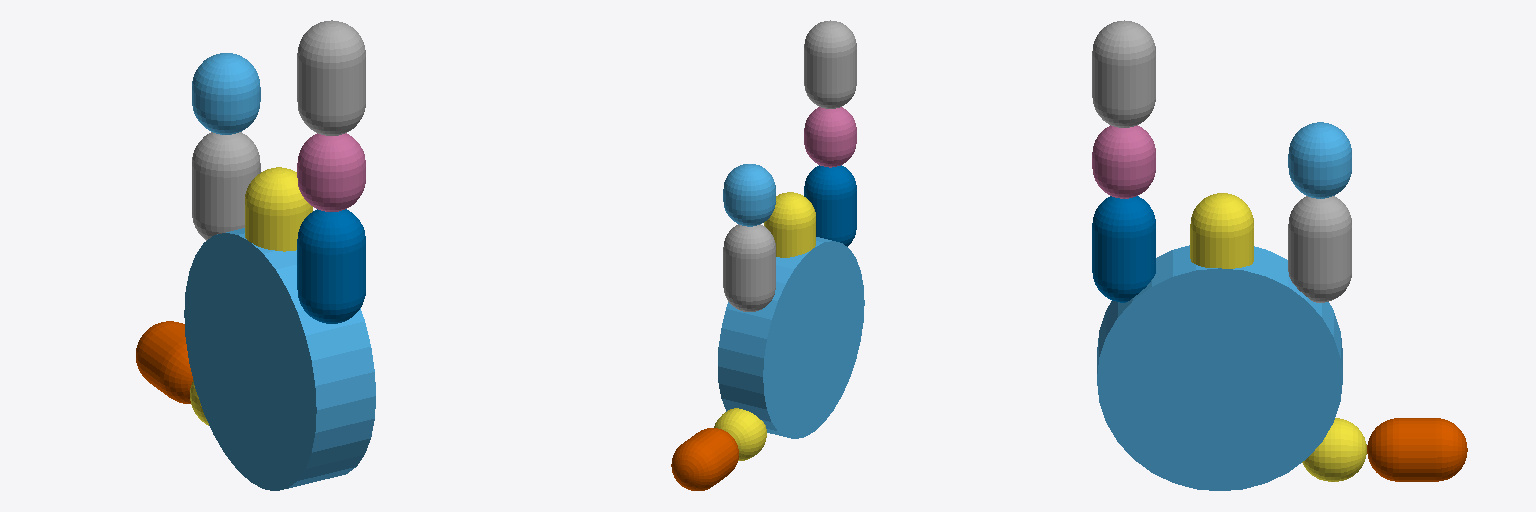
robot.urdf — DexterousHand:
<?xml version="1.0"?>
<robot name="DexterousHand">


    <link name="world"/>
    <joint name="world_to_palm" type="fixed">
        <parent link="world"/>
        <child link="palm"/>
        <origin xyz="0 0 0" rpy="0 0 0"/>
    </joint>
    <link name="palm">
        <inertial>
            <origin xyz="0 0 0.057" rpy="0 0 0"/>
            <mass value="0.30212892864"/>
            <inertia ixx="0.00049080844457568" ixy="0.0" ixz="0.0" iyy="0.00026746366246427523" iyz="0.0" izz="0.00026746366246427523"/>
        </inertial>
        <visual>
            <origin xyz="0 0 0.057" rpy="1.5708 0 1.5708"/>
            <geometry>
                <cylinder radius="0.057" length="0.0296"/>
            </geometry>
            <material name="default"/>
        </visual>
        <collision>
            <origin xyz="0 0 0.057" rpy="1.5708 0 1.5708"/>
            <geometry>
                <cylinder radius="0.057" length="0.0296"/>
            </geometry>
        </collision>
    </link>

    
    <joint name="thumb_joint1" type="revolute">
        <parent link="palm"/>
        <child link="thumb_base"/>
        <origin xyz="0.0029 0.0368 0.0157" rpy="-1.5708 -1.5708 0.0"/>
        <axis xyz="-1 0 0"/>
        <limit lower="-0.349" upper="2.094" effort="1.0" velocity="1.0"/>
    </joint>

    <link name="thumb_base"></link>

    <joint name="thumb_joint2" type="revolute">
        <parent link="thumb_base"/>
        <child link="thumb_proximal"/>
        <origin xyz="0.0 0.0 0.0" rpy="0.0 0.0 0.0"/>
        <axis xyz="0 0 1"/>
        <limit lower="-0.47" upper="2.443" effort="1.0" velocity="1.0"/>
    </joint>

    <link name="thumb_proximal">
        <inertial>
            <origin xyz="0 0 0.01565" rpy="0 0 0"/>
            <mass value="0.021538658803200002"/>
            <inertia ixx="2.9378910096388167e-06" ixy="0.0" ixz="0.0" 
            iyy="2.9378910096388167e-06" iyz="0.0" izz="2.358913912126464e-06"/>
        </inertial>
        <visual>
            <origin xyz="0 0 0.01565" rpy="0 0 0"/>
            <geometry>
                <cylinder radius="0.0148" length="0.0017000000000000001"/>
            </geometry>
            <material name="default"/>
        </visual>
        <visual>
            <origin xyz="0 0 0.0148" rpy="0 0 0"/>
            <geometry>
                <sphere radius="0.0148"/>
            </geometry>
            <material name="default"/>
        </visual>
        <visual>
            <origin xyz="0 0 0.0165" rpy="0 0 0"/>
            <geometry>
                <sphere radius="0.0148"/>
            </geometry>
            <material name="default"/>
        </visual>
        <collision>
            <origin xyz="0 0 0.01565" rpy="0 0 0"/>
            <geometry>
                <cylinder radius="0.0148" length="0.0017000000000000001"/>
            </geometry>
        </collision>
        <collision>
            <origin xyz="0 0 0.0148" rpy="0 0 0"/>
            <geometry>
                <sphere radius="0.0148"/>
            </geometry>
        </collision>
        <collision>
            <origin xyz="0 0 0.0165" rpy="0 0 0"/>
            <geometry>
                <sphere radius="0.0148"/>
            </geometry>
        </collision>
    </link>

    <joint name="thumb_joint3" type="revolute">
        <parent link="thumb_proximal"/>
        <child link="thumb_knuckle"/>
        <origin xyz="0.0 0.0 0.0313" rpy="0.0 0.0 0.0"/>
        <axis xyz="1 0 0"/>
        <limit lower="0.0" upper="0.0" effort="1.0" velocity="1.0"/>
    </joint>

    <link name="thumb_knuckle"></link>

    <joint name="thumb_joint4" type="revolute">
        <parent link="thumb_knuckle"/>
        <child link="thumb_middle"/>
        <origin xyz="0 0 0" rpy="0 0 0"/> 
        <axis xyz="0 1 0"/>
        <limit lower="-1.2" upper="1.9" effort="1.0" velocity="1.0"/>
    </joint>

    <link name="thumb_middle">
        <inertial>
            <origin xyz="0 0 0.0233" rpy="0 0 0"/>
            <mass value="0.032067140582400004"/>
            <inertia ixx="7.5589732685519385e-06" ixy="0.0" ixz="0.0" 
            iyy="7.5589732685519385e-06" iyz="0.0" izz="3.5119932365844485e-06"/>
        </inertial>
        <visual>
            <origin xyz="0 0 0.0233" rpy="0 0 0"/>
            <geometry>
                <cylinder radius="0.0148" length="0.017"/>
            </geometry>
            <material name="default"/>
        </visual>
        <visual>
            <origin xyz="0 0 0.0148" rpy="0 0 0"/>
            <geometry>
                <sphere radius="0.0148"/>
            </geometry>
            <material name="default"/>
        </visual>
        <visual>
            <origin xyz="0 0 0.0318" rpy="0 0 0"/>
            <geometry>
                <sphere radius="0.0148"/>
            </geometry>
            <material name="default"/>
        </visual>
        <collision>
            <origin xyz="0 0 0.0233" rpy="0 0 0"/>
            <geometry>
                <cylinder radius="0.0148" length="0.017"/>
            </geometry>
        </collision>
        <collision>
            <origin xyz="0 0 0.0148" rpy="0 0 0"/>
            <geometry>
                <sphere radius="0.0148"/>
            </geometry>
        </collision>
        <collision>
            <origin xyz="0 0 0.0318" rpy="0 0 0"/>
            <geometry>
                <sphere radius="0.0148"/>
            </geometry>
        </collision>
    </link>

    <joint name="thumb_joint5" type="revolute">
        <parent link="thumb_middle"/>
        <child link="thumb_distal"/>
        <origin xyz="0 0 0.0466" rpy="0 0 0"/> 
        <axis xyz="0 1 0"/>
        <limit lower="0.0" upper="0.0" effort="1.0" velocity="1.0"/>
    </joint>

    <link name="thumb_distal">
    </link>

    
    <joint name="index_joint1" type="revolute">
        <parent link="palm"/>
        <child link="index_proximal"/>
        <origin xyz="0.0 0.0465 0.091" rpy="0.0 0.0 0.0"/>
        <axis xyz="0 1 0"/>
        <limit lower="-0.314" upper="2.23" effort="1.0" velocity="1.0"/>
    </joint>

    <link name="index_proximal">
        <inertial>
            <origin xyz="0 0 0.02655" rpy="0 0 0"/>
            <mass value="0.036540024998400006"/>
            <inertia ixx="1.058665009272394e-05" ixy="0.0" ixz="0.0" 
            iyy="1.058665009272394e-05" iyz="0.0" izz="4.001863537824769e-06"/>
        </inertial>
        <visual>
            <origin xyz="0 0 0.02655" rpy="0 0 0"/>
            <geometry>
                <cylinder radius="0.0148" length="0.0235"/>
            </geometry>
            <material name="default"/>
        </visual>
        <visual>
            <origin xyz="0 0 0.0148" rpy="0 0 0"/>
            <geometry>
                <sphere radius="0.0148"/>
            </geometry>
            <material name="default"/>
        </visual>
        <visual>
            <origin xyz="0 0 0.0383" rpy="0 0 0"/>
            <geometry>
                <sphere radius="0.0148"/>
            </geometry>
            <material name="default"/>
        </visual>
        <collision>
            <origin xyz="0 0 0.02655" rpy="0 0 0"/>
            <geometry>
                <cylinder radius="0.0148" length="0.0235"/>
            </geometry>
        </collision>
        <collision>
            <origin xyz="0 0 0.0148" rpy="0 0 0"/>
            <geometry>
                <sphere radius="0.0148"/>
            </geometry>
        </collision>
        <collision>
            <origin xyz="0 0 0.0383" rpy="0 0 0"/>
            <geometry>
                <sphere radius="0.0148"/>
            </geometry>
        </collision>
    </link>

    <joint name="index_joint2" type="revolute">
        <parent link="index_proximal"/>
        <child link="index_dummy"/>
        <origin xyz="0.0 0.0 0.038" rpy="0.0 0.0 0.0"/>
        <axis xyz="1 0 0"/>
        <limit lower="-1.047" upper="1.047" effort="1.0" velocity="1.0"/>
    </joint>

    <link name="index_dummy"></link>

    <joint name="index_joint3" type="revolute">
        <parent link="index_dummy"/>
        <child link="index_middle"/>
        <origin xyz="0 0 0.015100000000000002" rpy="0 0 0"/>
        <axis xyz="0 1 0"/>
        <limit lower="-0.506" upper="1.885" effort="1.0" velocity="1.0"/>
    </joint>

    <link name="index_middle">
        <inertial>
            <origin xyz="0 0 0.01805" rpy="0 0 0"/>
            <mass value="0.0248417119104"/>
            <inertia ixx="4.058162759109537e-06" ixy="0.0" ixz="0.0" 
            iyy="4.058162759109537e-06" iyz="0.0" izz="2.7206642884270085e-06"/>
        </inertial>
        <visual>
            <origin xyz="0 0 0.01805" rpy="0 0 0"/>
            <geometry>
                <cylinder radius="0.0148" length="0.006499999999999999"/>
            </geometry>
            <material name="default"/>
        </visual>
        <visual>
            <origin xyz="0 0 0.0148" rpy="0 0 0"/>
            <geometry>
                <sphere radius="0.0148"/>
            </geometry>
            <material name="default"/>
        </visual>
        <visual>
            <origin xyz="0 0 0.0213" rpy="0 0 0"/>
            <geometry>
                <sphere radius="0.0148"/>
            </geometry>
            <material name="default"/>
        </visual>
        <collision>
            <origin xyz="0 0 0.01805" rpy="0 0 0"/>
            <geometry>
                <cylinder radius="0.0148" length="0.006499999999999999"/>
            </geometry>
        </collision>
        <collision>
            <origin xyz="0 0 0.0148" rpy="0 0 0"/>
            <geometry>
                <sphere radius="0.0148"/>
            </geometry>
        </collision>
        <collision>
            <origin xyz="0 0 0.0213" rpy="0 0 0"/>
            <geometry>
                <sphere radius="0.0148"/>
            </geometry>
        </collision>
    </link>

    <joint name="index_joint4" type="revolute">
        <parent link="index_middle"/>
        <child link="index_distal"/>
        <origin xyz="0 0 0.0361" rpy="0 0 0"/> 
        <axis xyz="0 1 0"/>
        <limit lower="0.0" upper="0.0" effort="1.0" velocity="1.0"/>
    </joint>

    <link name="index_distal">
    </link>

    
    <joint name="middle_joint1" type="revolute">
        <parent link="palm"/>
        <child link="middle_proximal"/>
        <origin xyz="0.0 0.0011 0.091" rpy="0.0 0.0 0.0"/>
        <axis xyz="0 1 0"/>
        <limit lower="-0.314" upper="2.23" effort="1.0" velocity="1.0"/>
    </joint>

    <link name="middle_proximal">
        <inertial>
            <origin xyz="0 0 0.02655" rpy="0 0 0"/>
            <mass value="0.036540024998400006"/>
            <inertia ixx="1.058665009272394e-05" ixy="0.0" ixz="0.0" 
            iyy="1.058665009272394e-05" iyz="0.0" izz="4.001863537824769e-06"/>
        </inertial>
        <visual>
            <origin xyz="0 0 0.02655" rpy="0 0 0"/>
            <geometry>
                <cylinder radius="0.0148" length="0.0235"/>
            </geometry>
            <material name="default"/>
        </visual>
        <visual>
            <origin xyz="0 0 0.0148" rpy="0 0 0"/>
            <geometry>
                <sphere radius="0.0148"/>
            </geometry>
            <material name="default"/>
        </visual>
        <visual>
            <origin xyz="0 0 0.0383" rpy="0 0 0"/>
            <geometry>
                <sphere radius="0.0148"/>
            </geometry>
            <material name="default"/>
        </visual>
        <collision>
            <origin xyz="0 0 0.02655" rpy="0 0 0"/>
            <geometry>
                <cylinder radius="0.0148" length="0.0235"/>
            </geometry>
        </collision>
        <collision>
            <origin xyz="0 0 0.0148" rpy="0 0 0"/>
            <geometry>
                <sphere radius="0.0148"/>
            </geometry>
        </collision>
        <collision>
            <origin xyz="0 0 0.0383" rpy="0 0 0"/>
            <geometry>
                <sphere radius="0.0148"/>
            </geometry>
        </collision>
    </link>

    <joint name="middle_joint2" type="revolute">
        <parent link="middle_proximal"/>
        <child link="middle_dummy"/>
        <origin xyz="0.0 0.0 0.038" rpy="0.0 0.0 0.0"/>
        <axis xyz="0 1 0"/>
        <limit lower="0.0" upper="0.0" effort="1.0" velocity="1.0"/>
    </joint>

    <link name="middle_dummy"></link>

    <joint name="middle_joint3" type="revolute">
        <parent link="middle_dummy"/>
        <child link="middle_middle"/>
        <origin xyz="0 0 0.015100000000000002" rpy="0 0 0"/>
        <axis xyz="0 1 0"/>
        <limit lower="0.0" upper="0.0" effort="1.0" velocity="1.0"/>
    </joint>

    <link name="middle_middle">
    </link>

    <joint name="middle_joint4" type="revolute">
        <parent link="middle_middle"/>
        <child link="middle_distal"/>
        <origin xyz="0 0 0" rpy="0 0 0"/> 
        <axis xyz="0 1 0"/>
        <limit lower="0.0" upper="0.0" effort="1.0" velocity="1.0"/>
    </joint>

    <link name="middle_distal">
    </link>

    
    <joint name="ring_joint1" type="revolute">
        <parent link="palm"/>
        <child link="ring_proximal"/>
        <origin xyz="0.0 0.0 0.0" rpy="0.0 0.0 0.0"/>
        <axis xyz="1 0 0"/>
        <limit lower="0.0" upper="0.0" effort="1.0" velocity="1.0"/>
    </joint>

    <link name="ring_proximal">
    </link>

    <joint name="ring_joint2" type="revolute">
        <parent link="ring_proximal"/>
        <child link="ring_dummy"/>
        <origin xyz="0.0 0.0 0.0" rpy="0.0 0.0 0.0"/>
        <axis xyz="0 1 0"/>
        <limit lower="0.0" upper="0.0" effort="1.0" velocity="1.0"/>
    </joint>

    <link name="ring_dummy"></link>

    <joint name="ring_joint3" type="revolute">
        <parent link="ring_dummy"/>
        <child link="ring_middle"/>
        <origin xyz="0 0 0" rpy="0 0 0"/>
        <axis xyz="0 1 0"/>
        <limit lower="0.0" upper="0.0" effort="1.0" velocity="1.0"/>
    </joint>

    <link name="ring_middle">
    </link>

    <joint name="ring_joint4" type="revolute">
        <parent link="ring_middle"/>
        <child link="ring_distal"/>
        <origin xyz="0 0 0" rpy="0 0 0"/> 
        <axis xyz="0 1 0"/>
        <limit lower="0.0" upper="0.0" effort="1.0" velocity="1.0"/>
    </joint>

    <link name="ring_distal">
    </link>

    
    <joint name="little_joint0" type="revolute">
        <parent link="palm"/>
        <child link="little_base"/>
        <origin xyz="0.0 0.0 0.0" rpy="0.0 0.0 0.0"/>
        <axis xyz="0 1 0"/>
        <limit lower="0.0" upper="0.0" effort="1.0" velocity="1.0"/>
    </joint>

    <link name="little_base"></link>

    <joint name="little_joint1" type="revolute">
        <parent link="little_base"/>
        <child link="little_proximal"/>
        <origin xyz="0.0 -0.0443 0.091" rpy="-0.0 -0.0 -0.0"/>
        <axis xyz="0 1 0"/>
        <limit lower="-0.314" upper="2.23" effort="1.0" velocity="1.0"/>
    </joint>

    <link name="little_proximal">
        <inertial>
            <origin xyz="0 0 0.02655" rpy="0 0 0"/>
            <mass value="0.036540024998400006"/>
            <inertia ixx="1.058665009272394e-05" ixy="0.0" ixz="0.0" 
            iyy="1.058665009272394e-05" iyz="0.0" izz="4.001863537824769e-06"/>
        </inertial>
        <visual>
            <origin xyz="0 0 0.02655" rpy="0 0 0"/>
            <geometry>
                <cylinder radius="0.0148" length="0.0235"/>
            </geometry>
            <material name="default"/>
        </visual>
        <visual>
            <origin xyz="0 0 0.0148" rpy="0 0 0"/>
            <geometry>
                <sphere radius="0.0148"/>
            </geometry>
            <material name="default"/>
        </visual>
        <visual>
            <origin xyz="0 0 0.0383" rpy="0 0 0"/>
            <geometry>
                <sphere radius="0.0148"/>
            </geometry>
            <material name="default"/>
        </visual>
        <collision>
            <origin xyz="0 0 0.02655" rpy="0 0 0"/>
            <geometry>
                <cylinder radius="0.0148" length="0.0235"/>
            </geometry>
        </collision>
        <collision>
            <origin xyz="0 0 0.0148" rpy="0 0 0"/>
            <geometry>
                <sphere radius="0.0148"/>
            </geometry>
        </collision>
        <collision>
            <origin xyz="0 0 0.0383" rpy="0 0 0"/>
            <geometry>
                <sphere radius="0.0148"/>
            </geometry>
        </collision>
    </link>

    <joint name="little_joint2" type="revolute">
        <parent link="little_proximal"/>
        <child link="little_dummy"/>
        <origin xyz="0.0 0.0 0.038" rpy="0.0 0.0 0.0"/>
        <axis xyz="1 0 0"/>
        <limit lower="-1.047" upper="1.047" effort="1.0" velocity="1.0"/>
    </joint>

    <link name="little_dummy"></link>

    <joint name="little_joint3" type="revolute">
        <parent link="little_dummy"/>
        <child link="little_middle"/>
        <origin xyz="0 0 0.015100000000000002" rpy="0 0 0"/>
        <axis xyz="0 1 0"/>
        <limit lower="-0.506" upper="1.885" effort="1.0" velocity="1.0"/>
    </joint>

    <link name="little_middle">
        <inertial>
            <origin xyz="0 0 0.01805" rpy="0 0 0"/>
            <mass value="0.0248417119104"/>
            <inertia ixx="4.058162759109537e-06" ixy="0.0" ixz="0.0" 
            iyy="4.058162759109537e-06" iyz="0.0" izz="2.7206642884270085e-06"/>
        </inertial>
        <visual>
            <origin xyz="0 0 0.01805" rpy="0 0 0"/>
            <geometry>
                <cylinder radius="0.0148" length="0.006499999999999999"/>
            </geometry>
            <material name="default"/>
        </visual>
        <visual>
            <origin xyz="0 0 0.0148" rpy="0 0 0"/>
            <geometry>
                <sphere radius="0.0148"/>
            </geometry>
            <material name="default"/>
        </visual>
        <visual>
            <origin xyz="0 0 0.0213" rpy="0 0 0"/>
            <geometry>
                <sphere radius="0.0148"/>
            </geometry>
            <material name="default"/>
        </visual>
        <collision>
            <origin xyz="0 0 0.01805" rpy="0 0 0"/>
            <geometry>
                <cylinder radius="0.0148" length="0.006499999999999999"/>
            </geometry>
        </collision>
        <collision>
            <origin xyz="0 0 0.0148" rpy="0 0 0"/>
            <geometry>
                <sphere radius="0.0148"/>
            </geometry>
        </collision>
        <collision>
            <origin xyz="0 0 0.0213" rpy="0 0 0"/>
            <geometry>
                <sphere radius="0.0148"/>
            </geometry>
        </collision>
    </link>

    <joint name="little_joint4" type="revolute">
        <parent link="little_middle"/>
        <child link="little_distal"/>
        <origin xyz="0 0 0.0361" rpy="0 0 0"/>
        <axis xyz="0 1 0"/>
        <limit lower="-0.366" upper="2.042" effort="1.0" velocity="1.0"/>
    </joint>

    <link name="little_distal">
        <inertial>
            <origin xyz="0 0 0.026" rpy="0 0 0"/>
            <mass value="0.035783075328"/>
            <inertia ixx="1.002260084553728e-05" ixy="0.0" ixz="0.0" 
            iyy="1.002260084553728e-05" iyz="0.0" izz="3.91896240992256e-06"/>
        </inertial>
        <visual>
            <origin xyz="0 0 0.026" rpy="0 0 0"/>
            <geometry>
                <cylinder radius="0.0148" length="0.022399999999999996"/>
            </geometry>
            <material name="default"/>
        </visual>
        <visual>
            <origin xyz="0 0 0.0148" rpy="0 0 0"/>
            <geometry>
                <sphere radius="0.0148"/>
            </geometry>
            <material name="default"/>
        </visual>
        <visual>
            <origin xyz="0 0 0.0372" rpy="0 0 0"/>
            <geometry>
                <sphere radius="0.0148"/>
            </geometry>
            <material name="default"/>
        </visual>
        <collision>
            <origin xyz="0 0 0.026" rpy="0 0 0"/>
            <geometry>
                <cylinder radius="0.0148" length="0.022399999999999996"/>
            </geometry>
        </collision>
        <collision>
            <origin xyz="0 0 0.0148" rpy="0 0 0"/>
            <geometry>
                <sphere radius="0.0148"/>
            </geometry>
        </collision>
        <collision>
            <origin xyz="0 0 0.0372" rpy="0 0 0"/>
            <geometry>
                <sphere radius="0.0148"/>
            </geometry>
        </collision>
    </link>

</robot>

--- Render facts (derived) ---
The picture shows the robot from 3 angles, left to right: view 1: azimuth 30°, elevation 25°; view 2: azimuth 150°, elevation 25°; view 3: azimuth 270°, elevation 25°; orthographic projection.
Model DexterousHand with 24 links and 23 joints (22 revolute, 1 fixed), rooted at world, posed all joints at 0.
Links seen in each view (by area): view 1: palm, little_proximal, little_distal, index_proximal, index_middle, little_middle, middle_proximal, thumb_middle; view 2: palm, index_proximal, little_distal, little_proximal, thumb_middle, index_middle, little_middle, middle_proximal, thumb_proximal; view 3: palm, little_distal, index_proximal, little_proximal, thumb_middle, middle_proximal, index_middle, little_middle, thumb_proximal.
Boxes of the visible links, bbox=[...] form: palm: bbox=[184, 228, 375, 490]; little_proximal: bbox=[297, 209, 365, 323]; little_distal: bbox=[297, 20, 365, 135]; index_proximal: bbox=[192, 132, 260, 240]; index_middle: bbox=[192, 53, 260, 134]; little_middle: bbox=[297, 133, 365, 211]; middle_proximal: bbox=[245, 167, 312, 251]; thumb_middle: bbox=[136, 321, 192, 403]; palm: bbox=[718, 237, 864, 438]; index_proximal: bbox=[723, 224, 775, 311]; little_distal: bbox=[804, 20, 856, 108]; little_proximal: bbox=[804, 165, 856, 246]; thumb_middle: bbox=[671, 428, 738, 490]; index_middle: bbox=[723, 164, 775, 226]; little_middle: bbox=[804, 107, 856, 167]; middle_proximal: bbox=[764, 192, 815, 257]; thumb_proximal: bbox=[714, 408, 766, 460]; palm: bbox=[1097, 245, 1342, 490]; little_distal: bbox=[1092, 20, 1155, 127]; index_proximal: bbox=[1288, 196, 1351, 302]; little_proximal: bbox=[1092, 196, 1155, 302]; thumb_middle: bbox=[1367, 418, 1467, 481]; middle_proximal: bbox=[1190, 193, 1253, 268]; index_middle: bbox=[1288, 122, 1351, 198]; little_middle: bbox=[1092, 125, 1155, 198]; thumb_proximal: bbox=[1302, 418, 1366, 481].
Size in the robot's own frame: 0.0325 by 0.1738 by 0.2322 metres.
Geometry: primitives only (box / cylinder / sphere), no mesh files.
